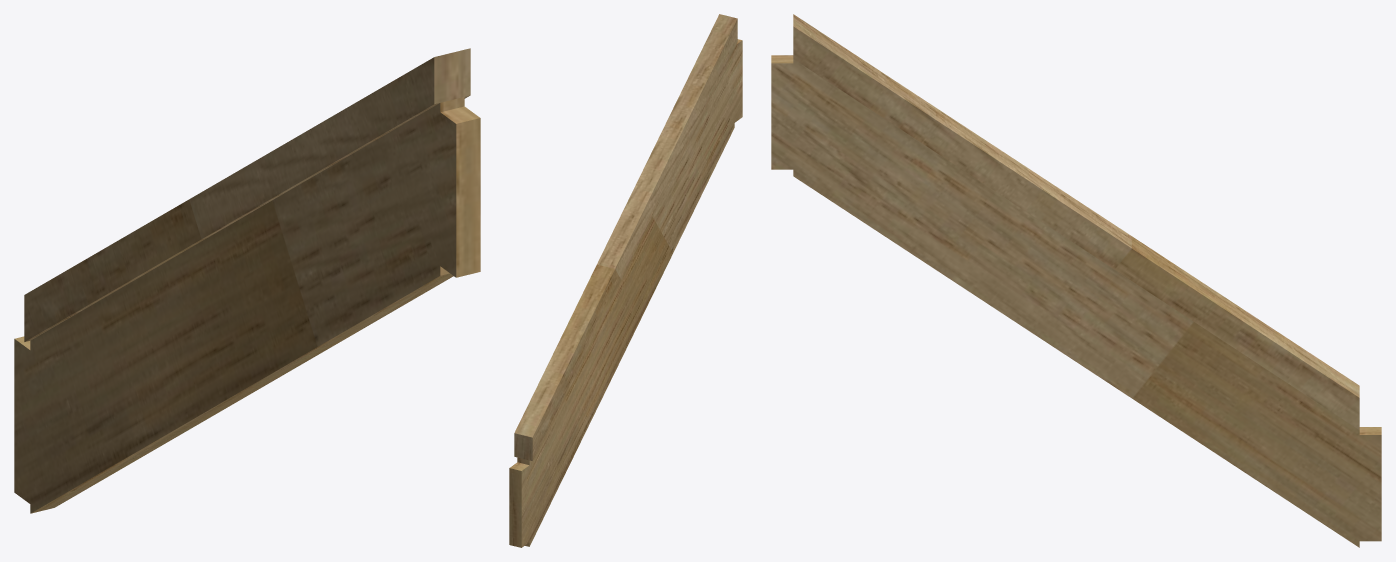
The model's file is Staircase_Fix.fbx.
3 renders of one model, left to right at view 1: azimuth 30°, elevation 25°; view 2: azimuth 150°, elevation 25°; view 3: azimuth 270°, elevation 25°, orthographic. The views are drawn at different scales.
Parts seen in each view (by area): view 1: ID246, ID70; view 2: ID246, ID70; view 3: ID246, ID70.
Part boxes in pixels (x1,y1,x2,y2): ID246: [14, 97, 480, 513]; ID70: [24, 48, 470, 341]; ID246: [509, 39, 742, 547]; ID70: [514, 14, 737, 460]; ID246: [771, 55, 1381, 547]; ID70: [793, 14, 1359, 430].
Bounding box in the file's own units: 6 × 119 × 126.
Materials: 2 (2 with a texture image).
